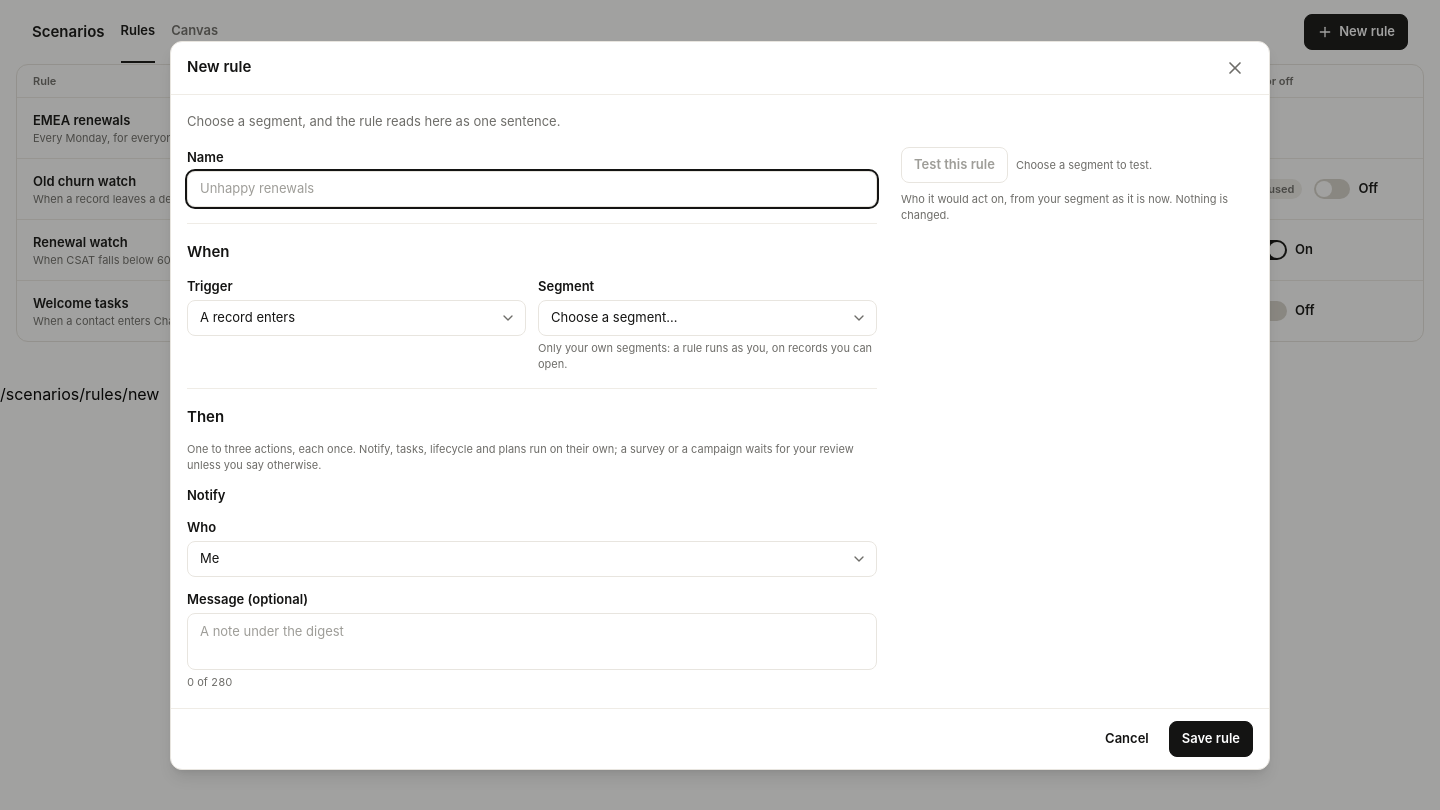
Test: the rule builder (spec §2.2) › opens over the list, reads the rule as one sentence, and saves it off
This screenshot has width=1440, height=810.
Expected: the list named "Rules" is shown, [17,98,1423,341]
Expected: the element showing "Choose a segment, and the rule reads here as one sentence." is shown, [187,112,560,128]
Select "Renewal risk" in the dropdown labelled "Segment" at {"x": 708, "y": 318}, box [538,300,877,336]
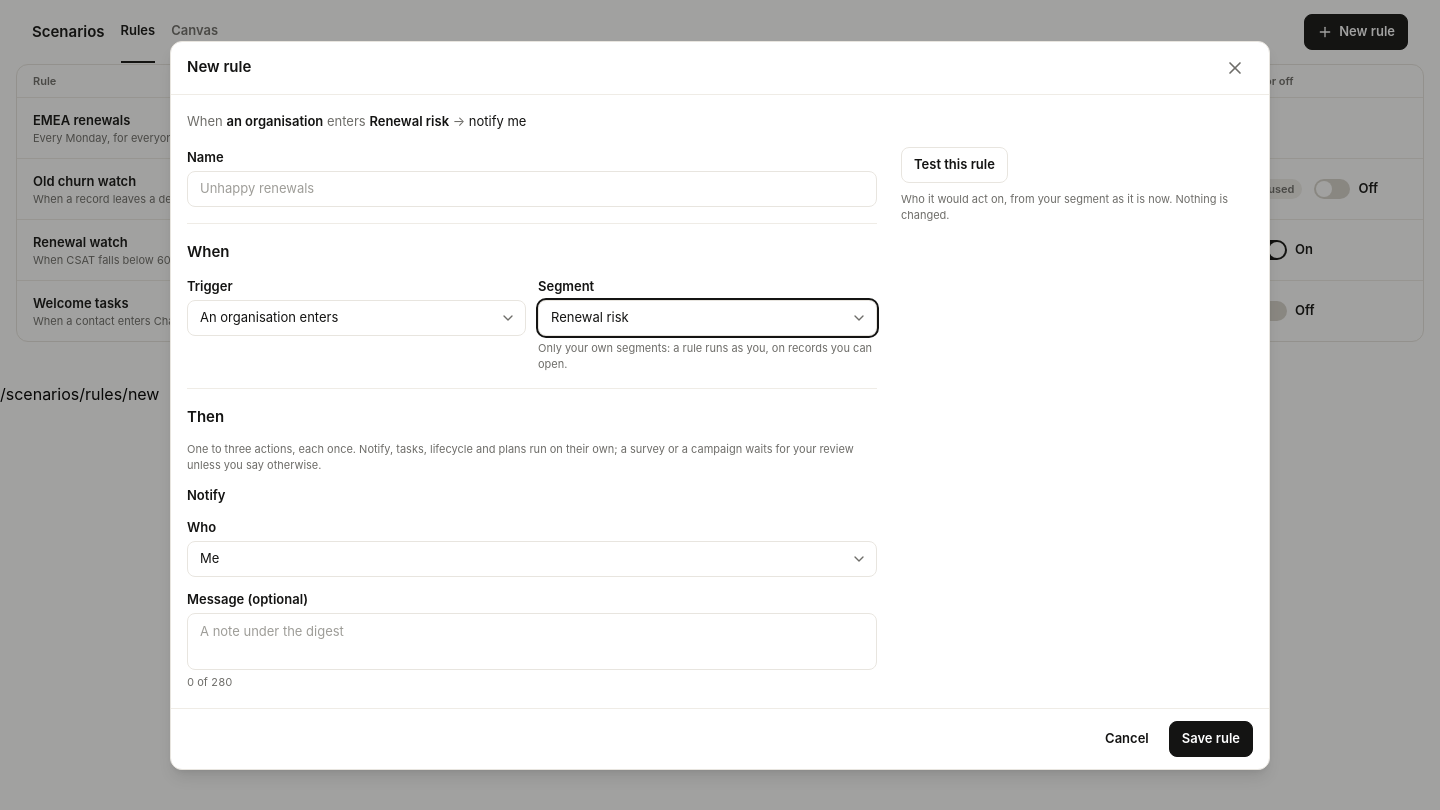
Expected: the element showing "When an organisation enters Renewal risk → notify me" is shown, [187,112,526,128]
Type "Renewal entries" into the field labelled "Name" at {"x": 532, "y": 188}, box [187,170,877,206]
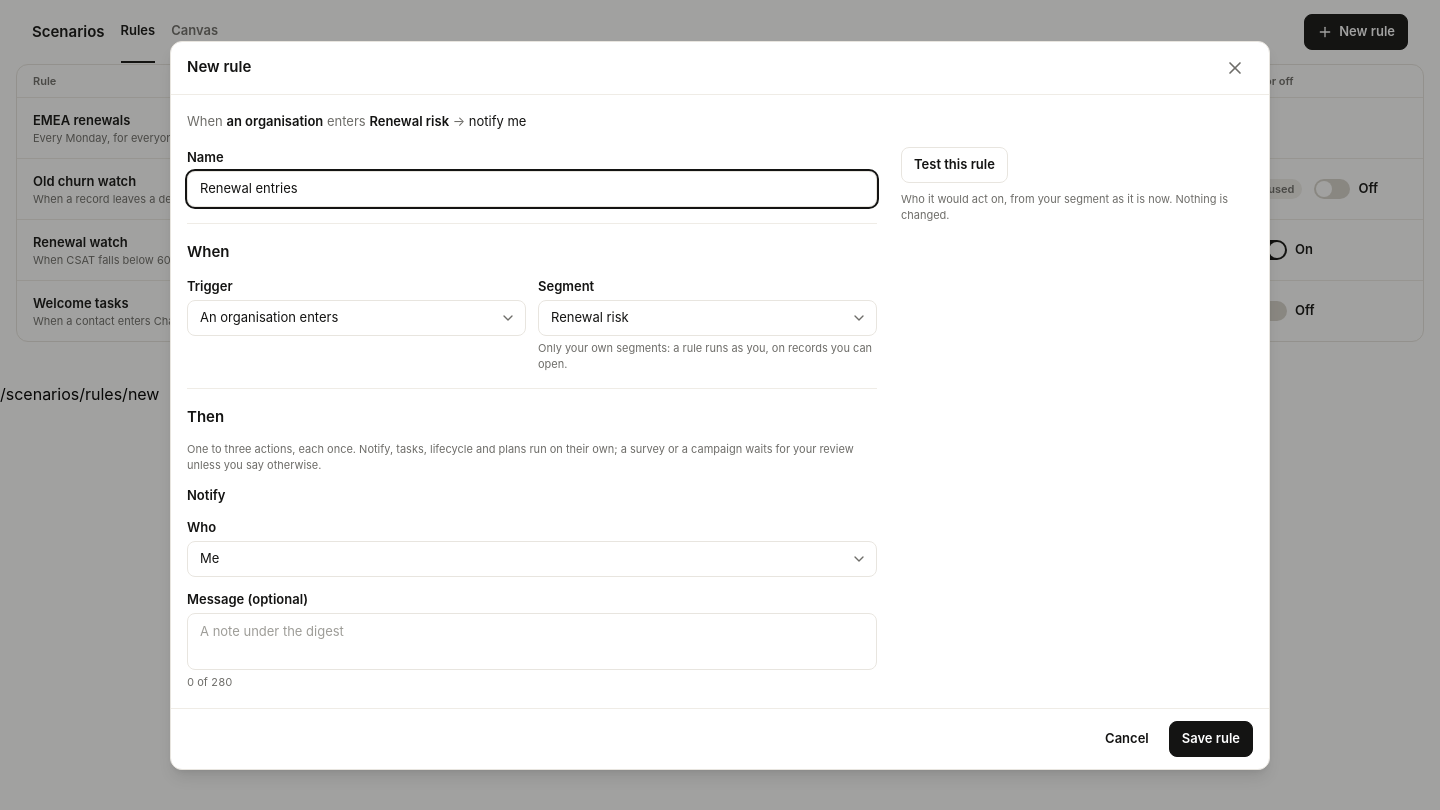
Click the button "Save rule" at {"x": 1211, "y": 738}, box [1169,720,1253,756]
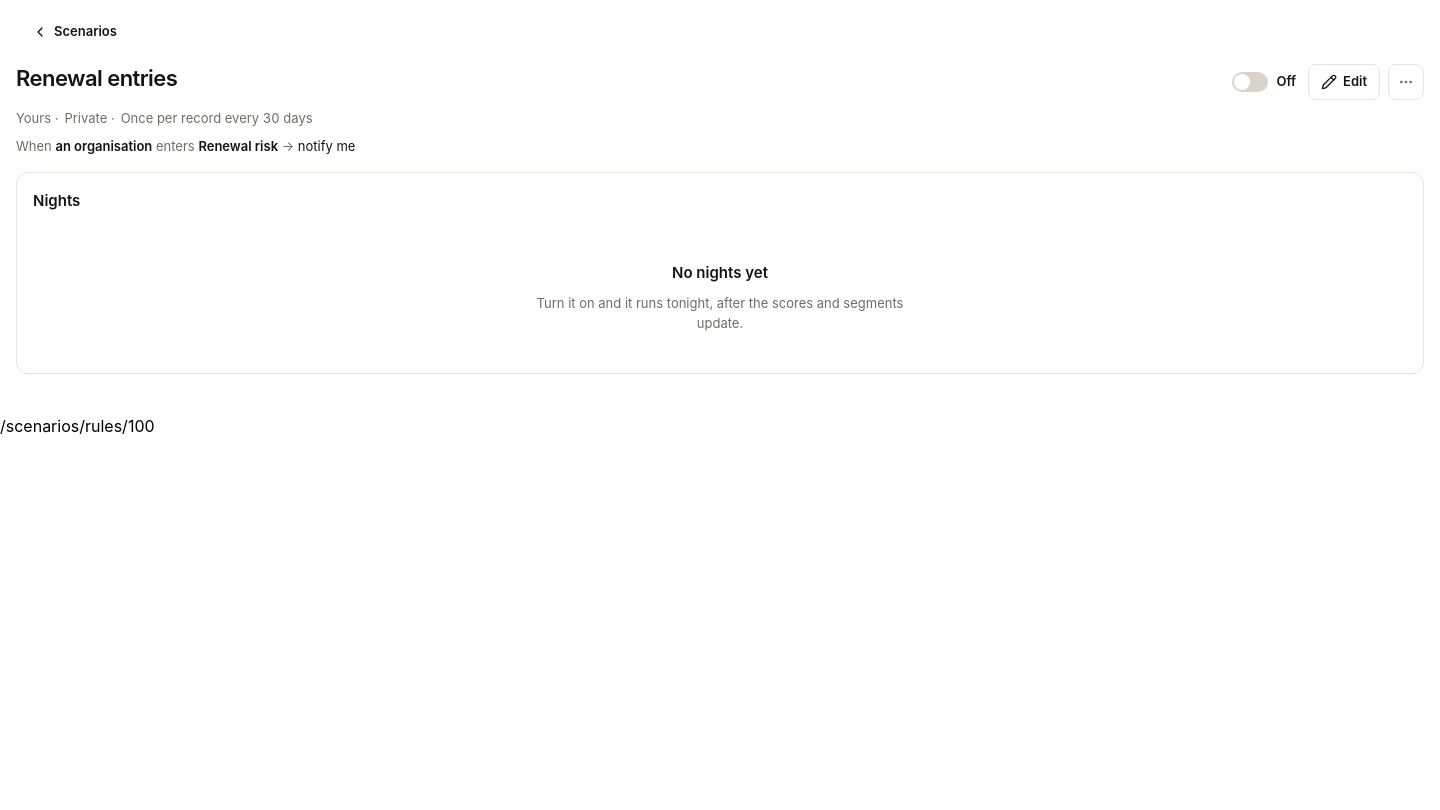
Expected: the text with test id "where" reads "/scenarios/rules/100", [0,416,155,436]
